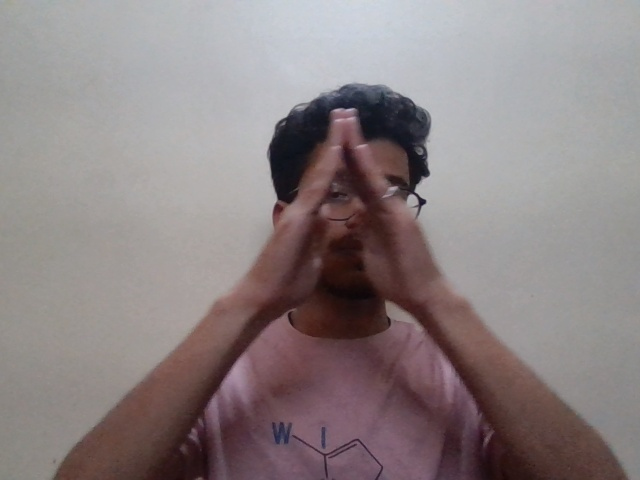home: (252, 94, 460, 321)
